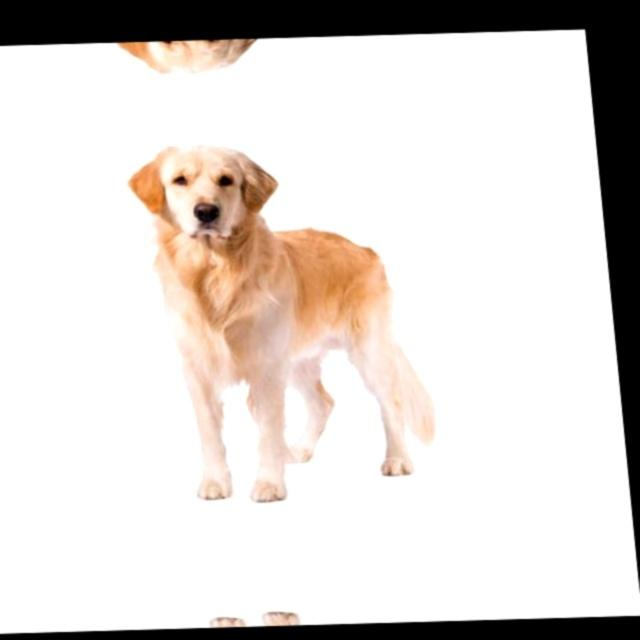dog: (119, 127, 462, 501), (110, 34, 420, 85), (165, 610, 474, 629)
